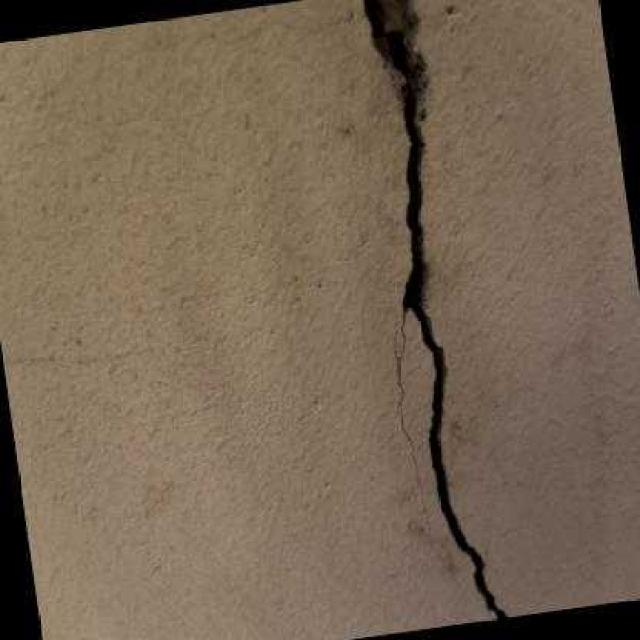D00: (363, 0, 507, 618)
